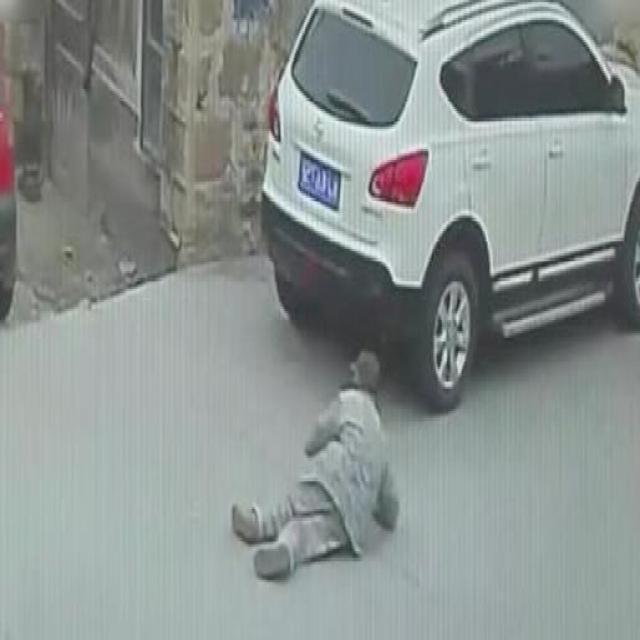fall: (244, 356, 391, 586)
